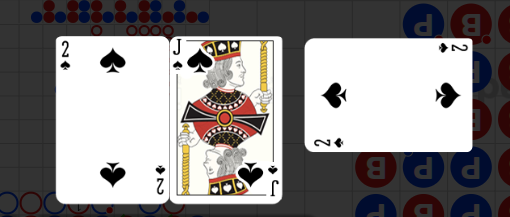2S: (313, 136, 346, 149), (59, 40, 72, 73), (436, 42, 468, 55)
JS: (171, 38, 215, 85), (238, 159, 282, 205)
